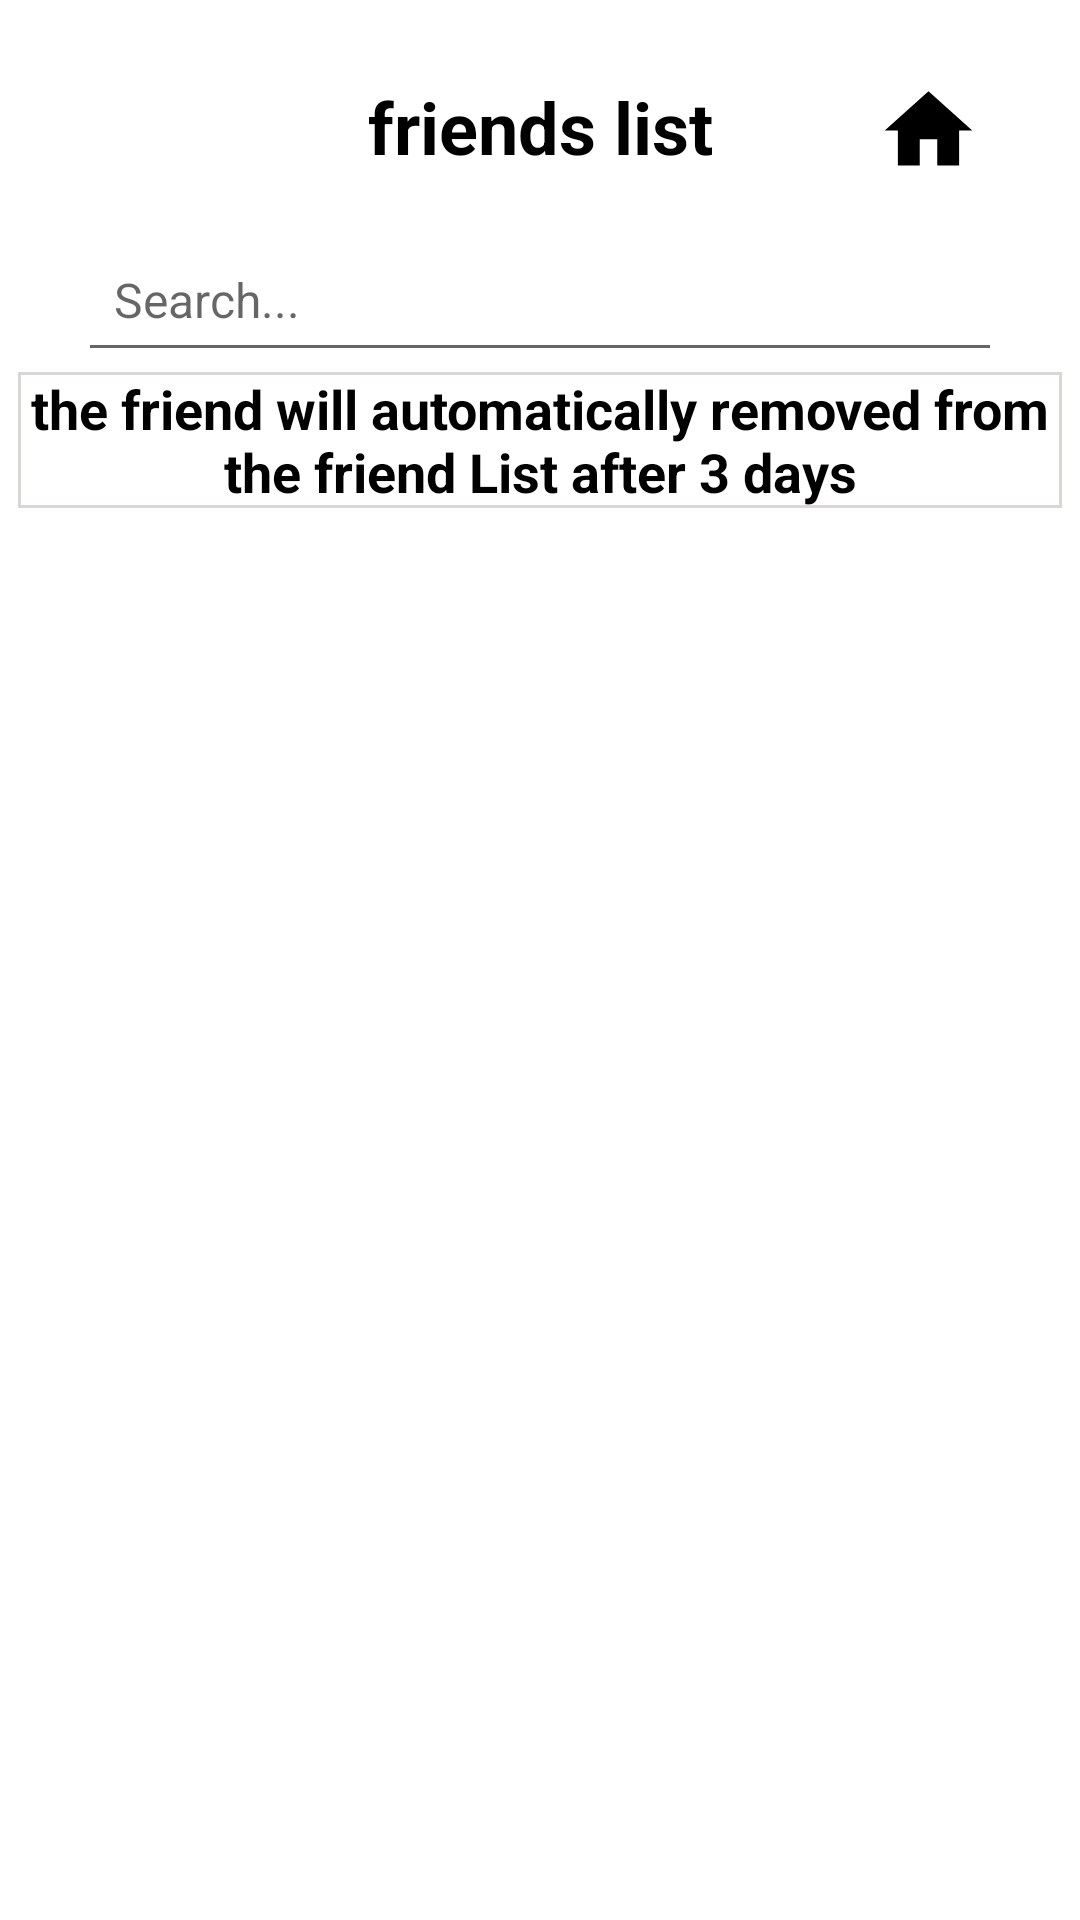

Icon bounding boxes for this 1080w x 1920h phone screenshot, format detection(x1, y1, x2, y2):
home: detection(885, 91, 972, 166)
